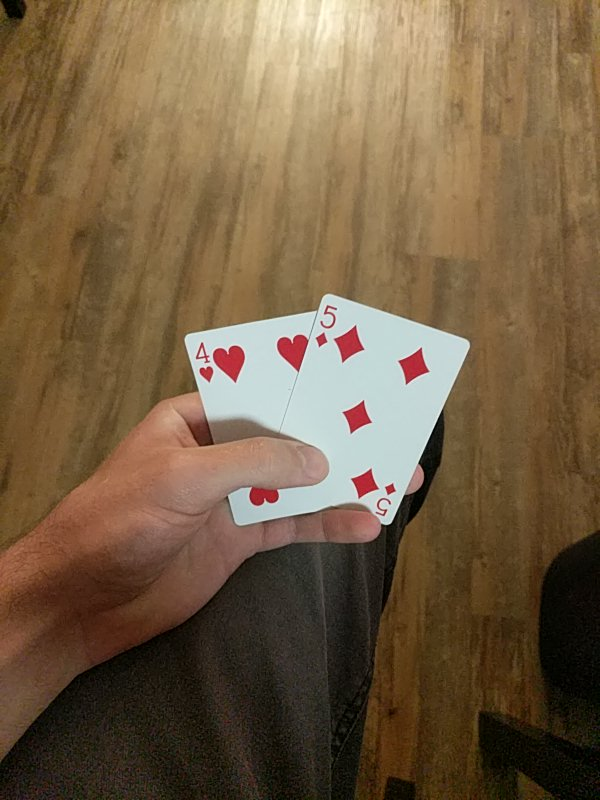Diamonds: (272, 294, 470, 531)
Hearts: (185, 309, 317, 527)
